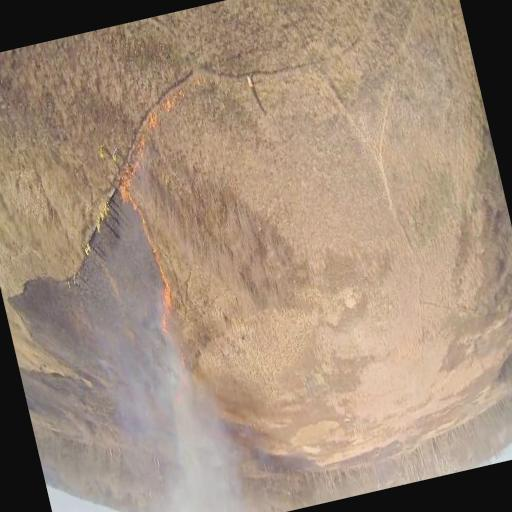fire: (110, 178, 191, 340), (101, 72, 222, 178), (155, 347, 211, 410)
smoke: (121, 278, 249, 512)
